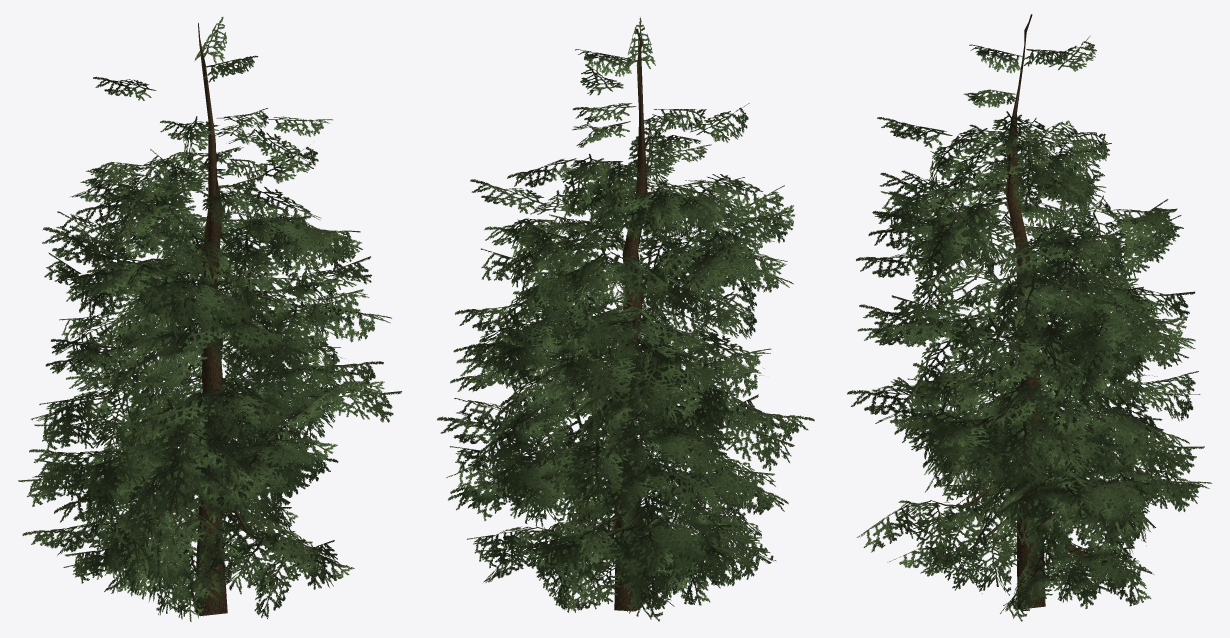
Rendered from koknar_lod1.glb.
3 views of the same model, side by side, from view 1: azimuth 30°, elevation 25°; view 2: azimuth 150°, elevation 25°; view 3: azimuth 270°, elevation 25° (orthographic).
Visible parts, largest first — view 1: koknar_lod1; view 2: koknar_lod1; view 3: koknar_lod1.
Boxes of the visible parts, x1,y1,x2,y2 form: koknar_lod1: (18,17,401,621); koknar_lod1: (437,17,814,621); koknar_lod1: (847,14,1211,621).
Size of the model in its own units: 5.08 by 8.48 by 4.87.
Materials: 2 (2 with a texture image).
